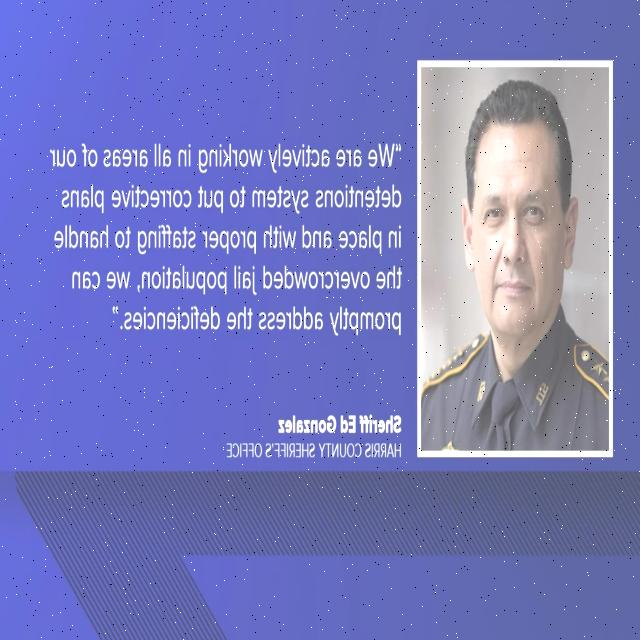police: (424, 93, 612, 444)
